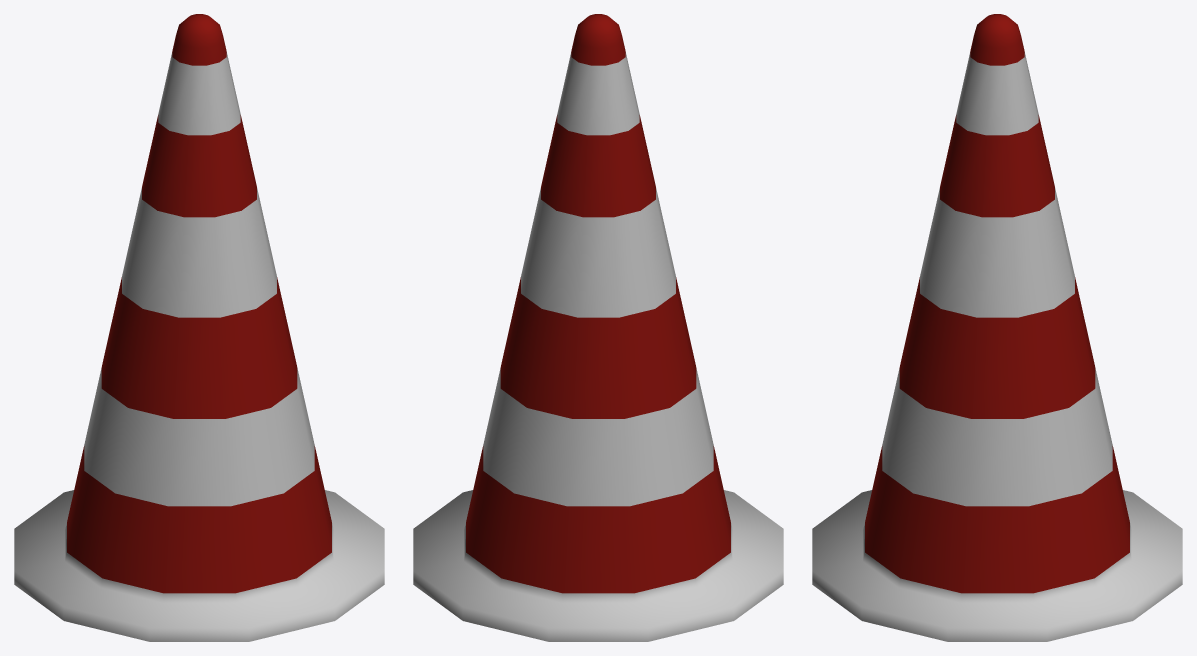
The model's file is CK_WJ_xuegaotong_01.FBX.
3 views of the same model, side by side, from view 1: azimuth 30°, elevation 25°; view 2: azimuth 150°, elevation 25°; view 3: azimuth 270°, elevation 25° (orthographic).
Parts seen in each view (by area): view 1: CK_WJ_xuegaotong_01; view 2: CK_WJ_xuegaotong_01; view 3: CK_WJ_xuegaotong_01.
Part boxes in pixels (x1,y1,x2,y2): CK_WJ_xuegaotong_01: [14, 14, 384, 641]; CK_WJ_xuegaotong_01: [413, 14, 783, 641]; CK_WJ_xuegaotong_01: [812, 14, 1182, 641].
Bounding box in the file's own units: 34.42 × 56.15 × 34.42.
